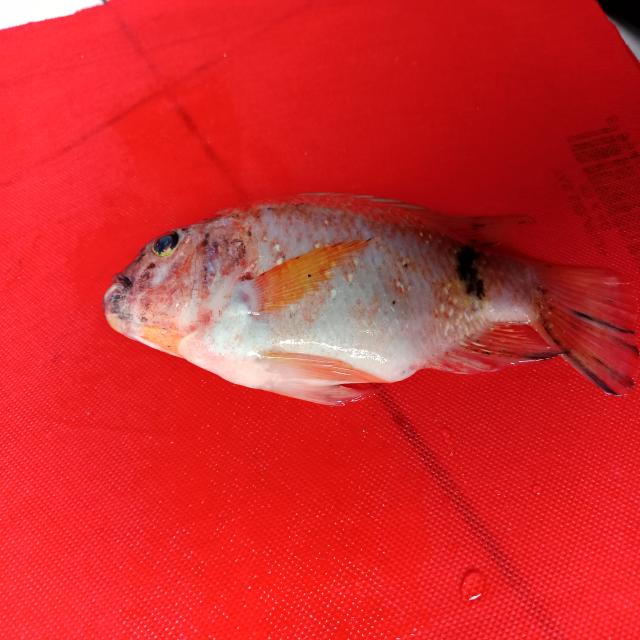ikan: (100, 192, 628, 420)
